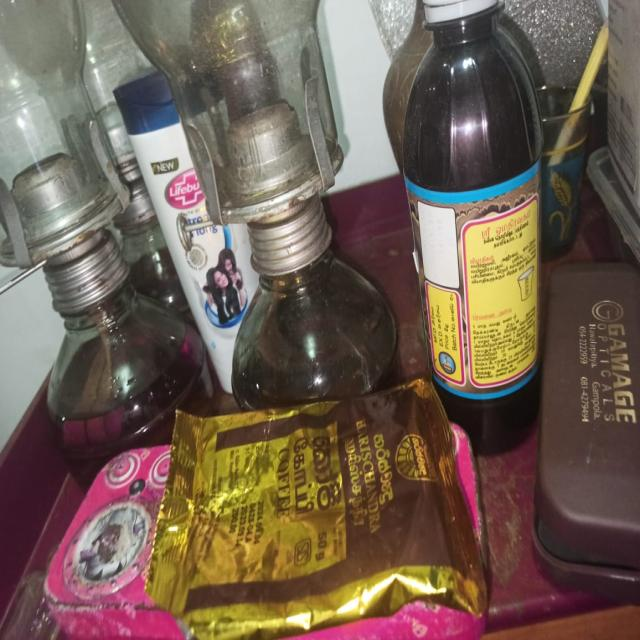Harischandra Coffee: (120, 391, 467, 640)
